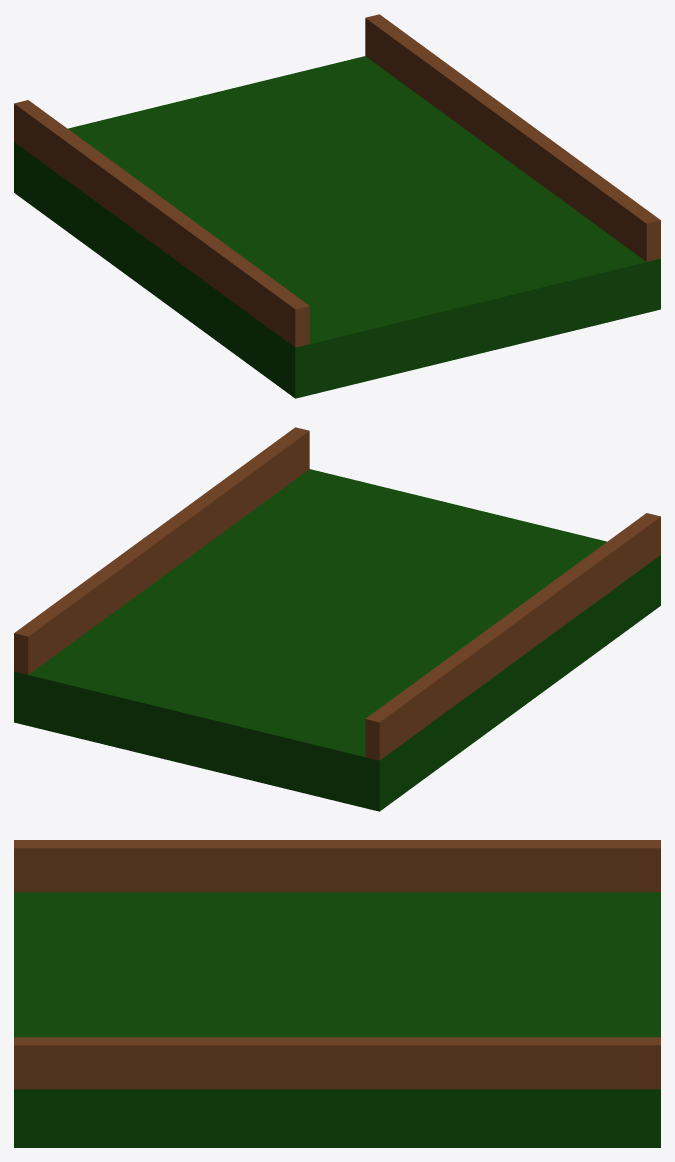
The model's file is minigolf_straight.glb.
The picture shows the model from 3 angles, top to bottom: view 1: azimuth 30°, elevation 25°; view 2: azimuth 150°, elevation 25°; view 3: azimuth 270°, elevation 25°; orthographic projection. The views are drawn at different scales.
Visible parts, largest first — view 1: Base Track, Side, Side.001; view 2: Base Track, Side, Side.001; view 3: Base Track, Side, Side.001.
Part boxes in pixels (x1=…): Base Track: x1=14, y1=56, x2=660, y2=398; Side: x1=14, y1=100, x2=309, y2=347; Side.001: x1=365, y1=14, x2=660, y2=261; Base Track: x1=14, y1=469, x2=660, y2=811; Side: x1=365, y1=513, x2=660, y2=760; Side.001: x1=14, y1=427, x2=309, y2=674; Base Track: x1=14, y1=892, x2=660, y2=1147; Side: x1=14, y1=840, x2=660, y2=892; Side.001: x1=14, y1=1037, x2=660, y2=1089.
Size of the model in its own units: 1.5 by 0.35 by 2.
